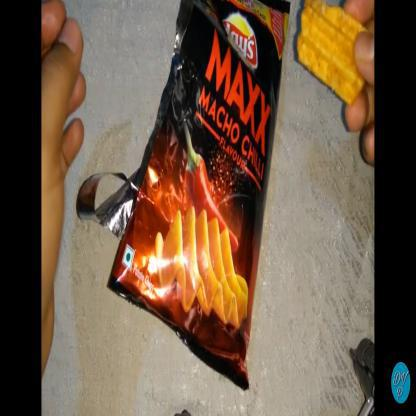max_chili: (127, 12, 284, 380)
